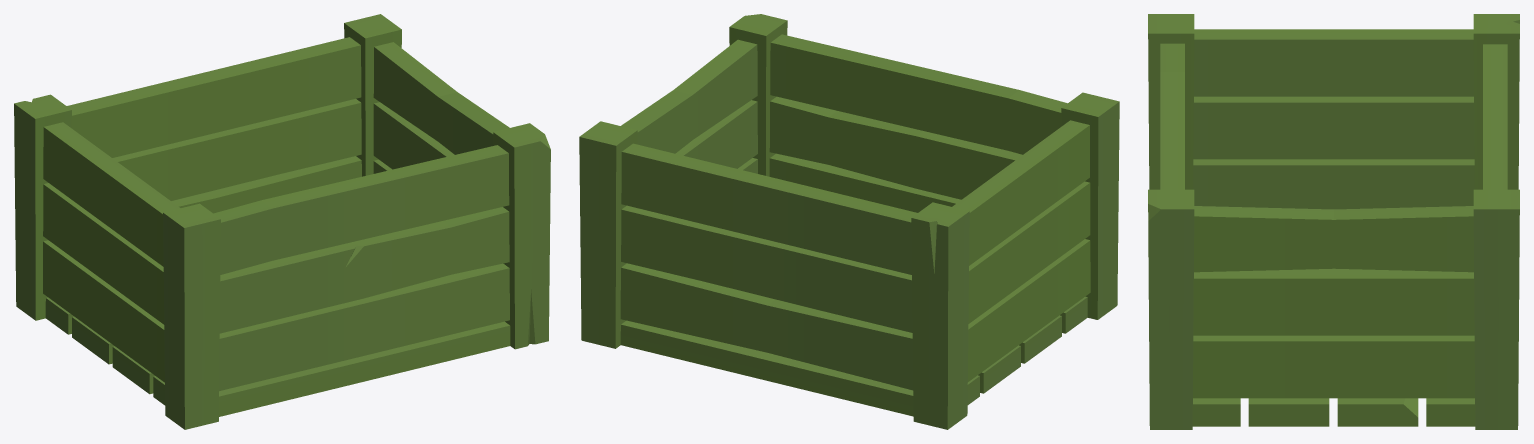
3 renders of one model, left to right at view 1: azimuth 30°, elevation 25°; view 2: azimuth 150°, elevation 25°; view 3: azimuth 270°, elevation 25°, orthographic. The views are drawn at different scales.
Parts seen in each view (by area): view 1: Box_02; view 2: Box_02; view 3: Box_02.
Boxes of the visible parts, x1,y1,x2,y2 form: Box_02: (14,14,550,429); Box_02: (579,14,1119,429); Box_02: (1148,14,1519,429).
Bounding box in the file's own units: 0.666 × 0.3518 × 0.5355.
